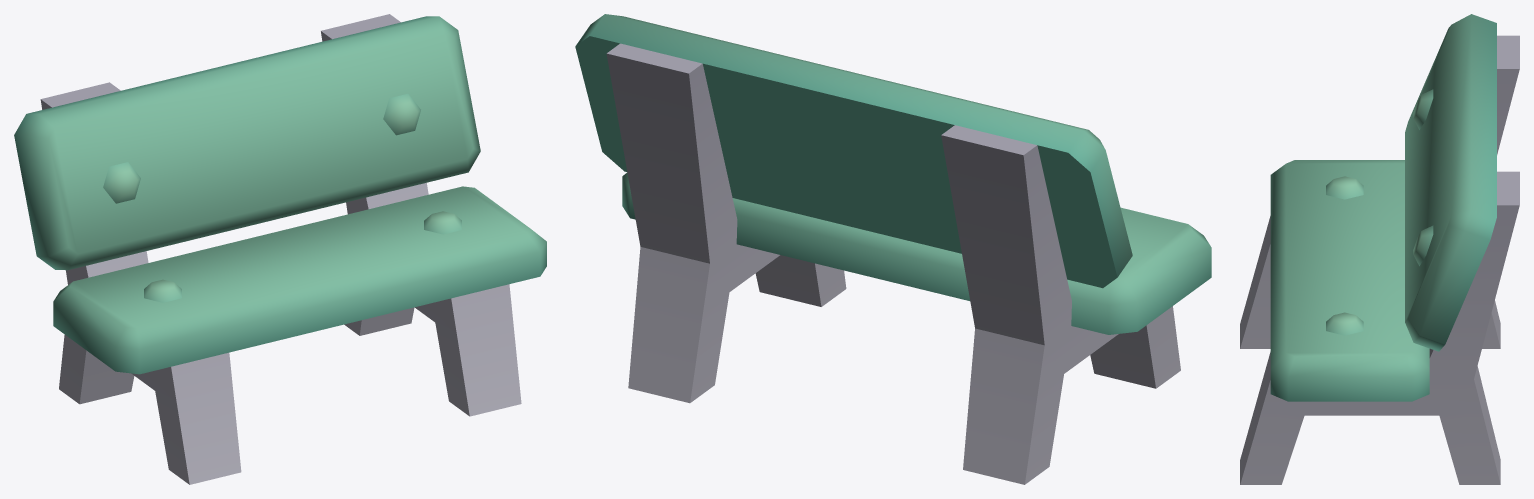
Rendered from bench.glb.
3 renders of one model, left to right at view 1: azimuth 30°, elevation 25°; view 2: azimuth 150°, elevation 25°; view 3: azimuth 270°, elevation 25°, orthographic. The views are drawn at different scales.
Parts seen in each view (by area): view 1: bench; view 2: bench; view 3: bench.
Boxes of the visible parts, x1,y1,x2,y2 form: bench: [14, 14, 546, 484]; bench: [575, 14, 1211, 484]; bench: [1240, 14, 1519, 484].
Bounding box in the file's own units: 1.53 × 1 × 0.8653.
